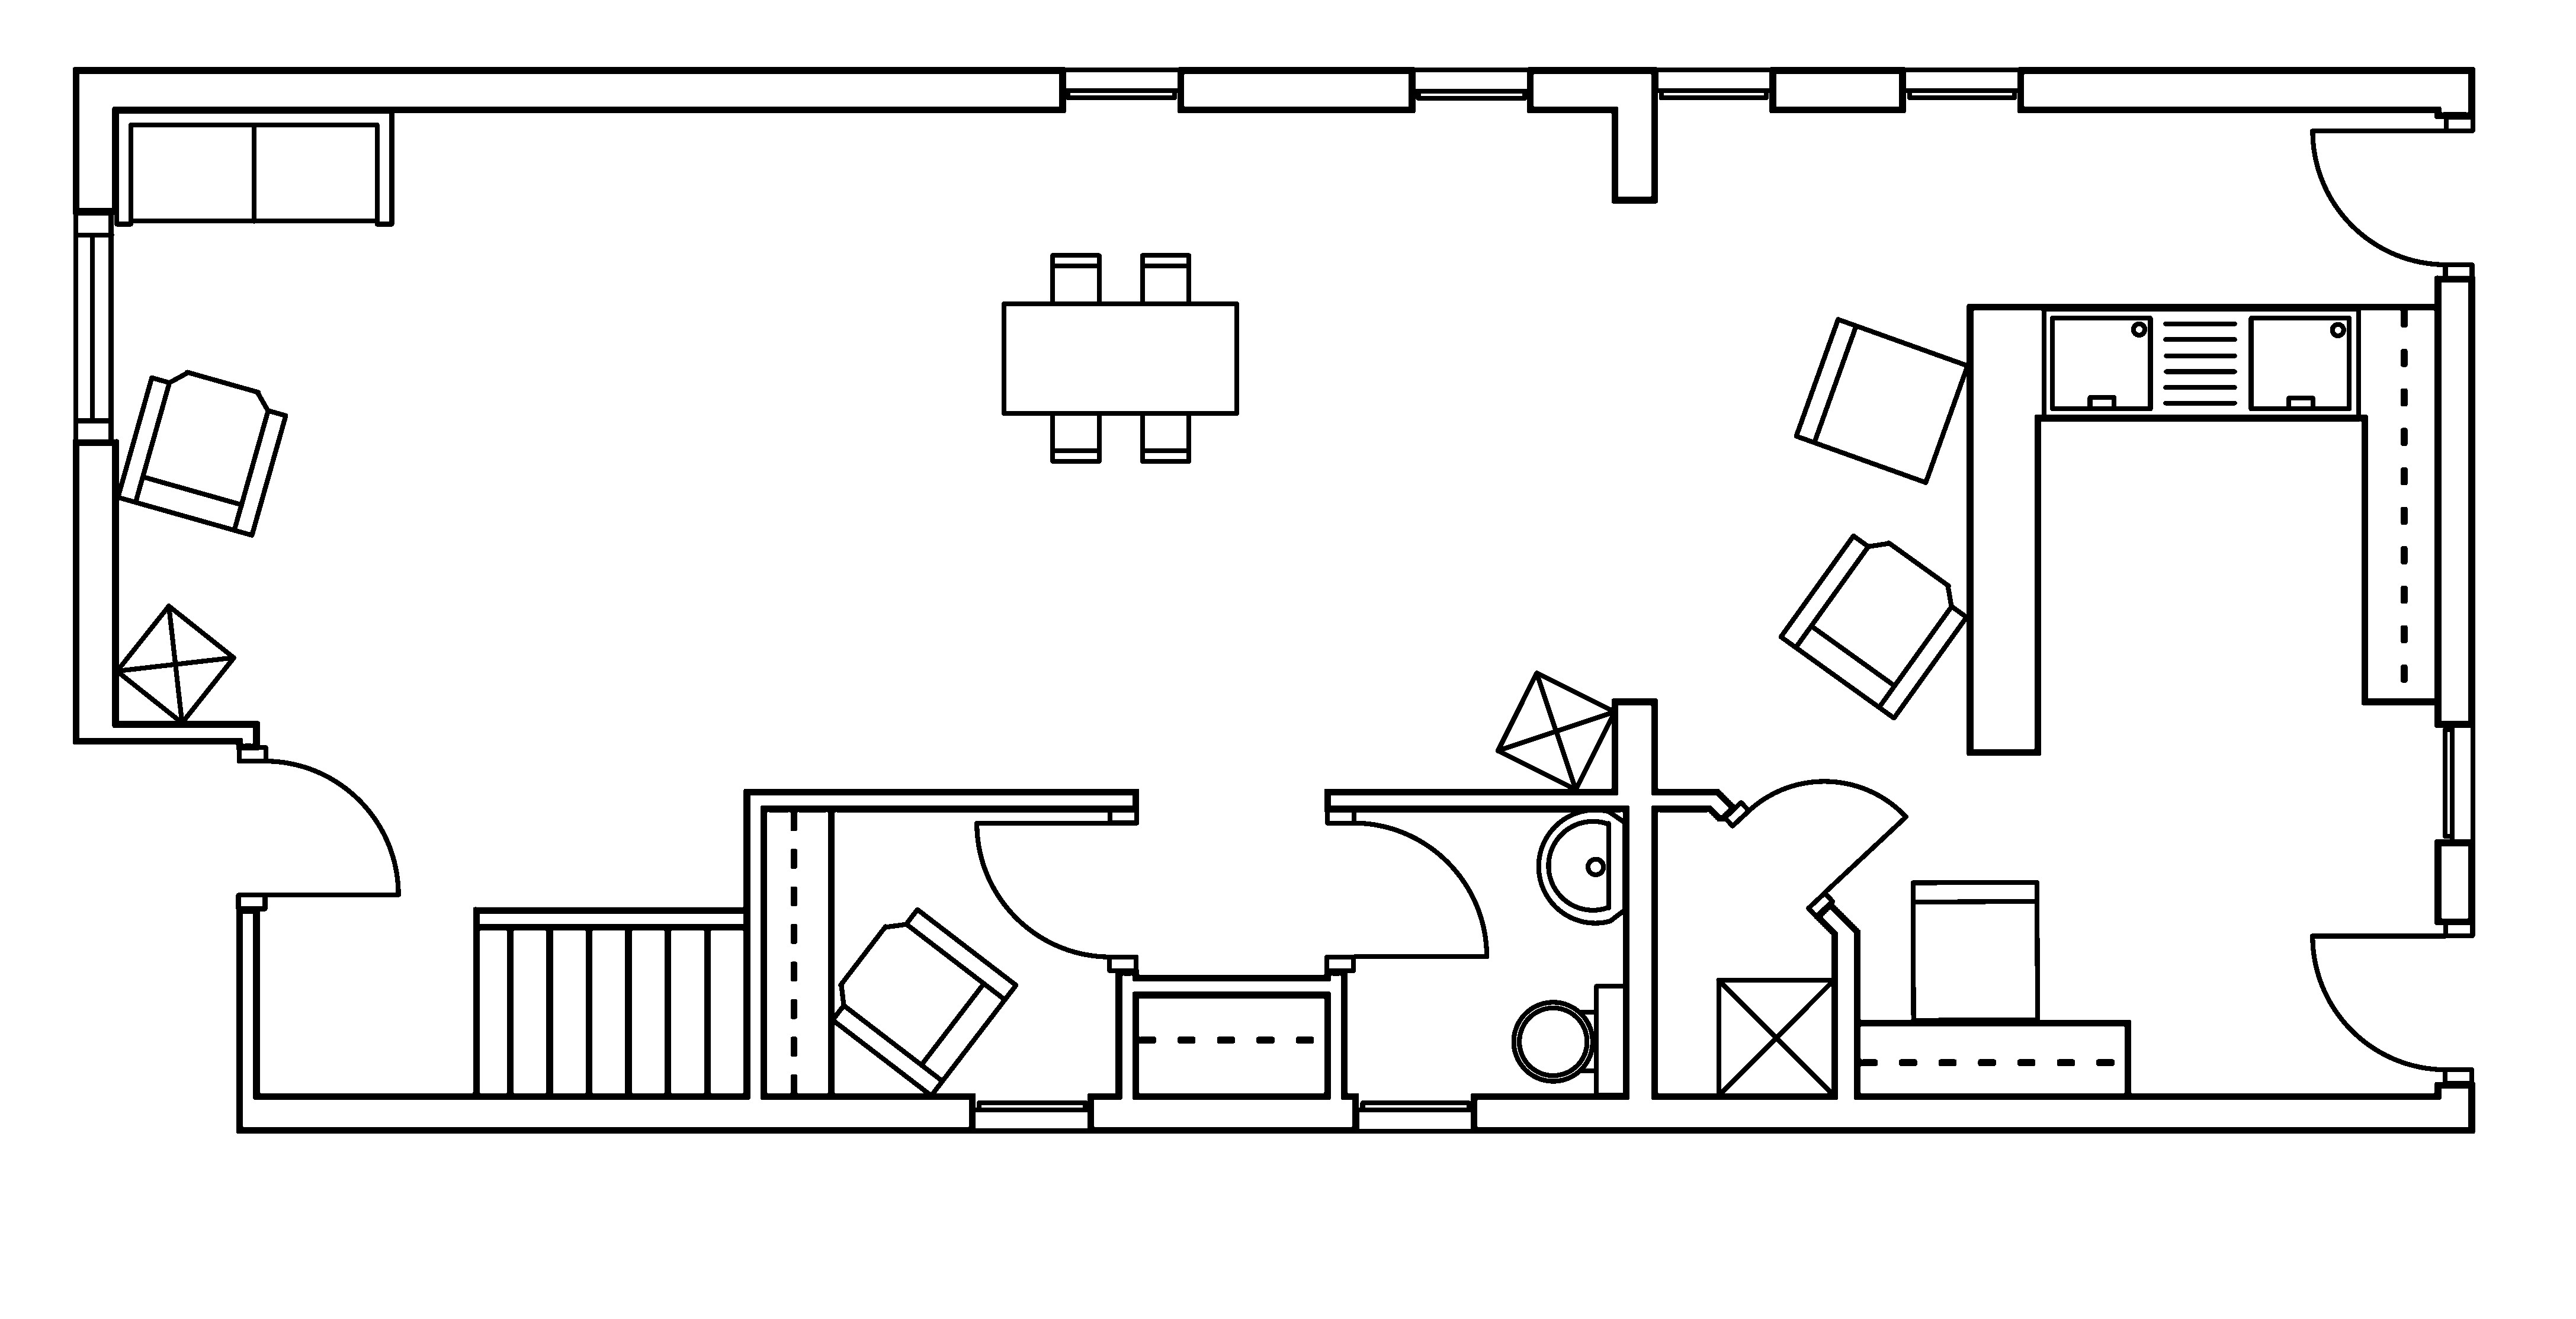armchair: (829, 905, 1019, 1099), (1777, 532, 1969, 720), (114, 368, 289, 538)
coffee_table: (113, 602, 237, 725), (1493, 670, 1618, 792), (1715, 976, 1836, 1099)
dining_table: (1000, 252, 1239, 464)
large_sink: (1512, 983, 1628, 1097)
large_sofa: (113, 108, 395, 227)
small_sink: (1535, 808, 1628, 925)
small_sofa: (1792, 316, 1971, 485), (1908, 878, 2040, 1023)
twin_sink: (2040, 305, 2361, 421)
